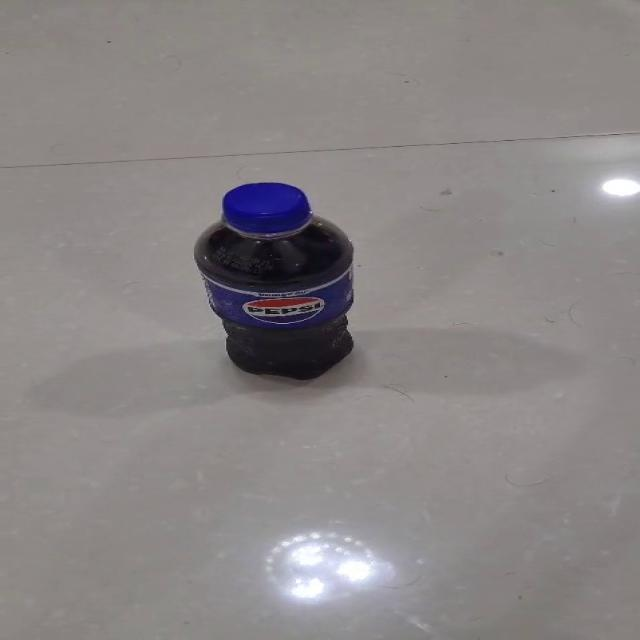plastic: (191, 181, 355, 380)
